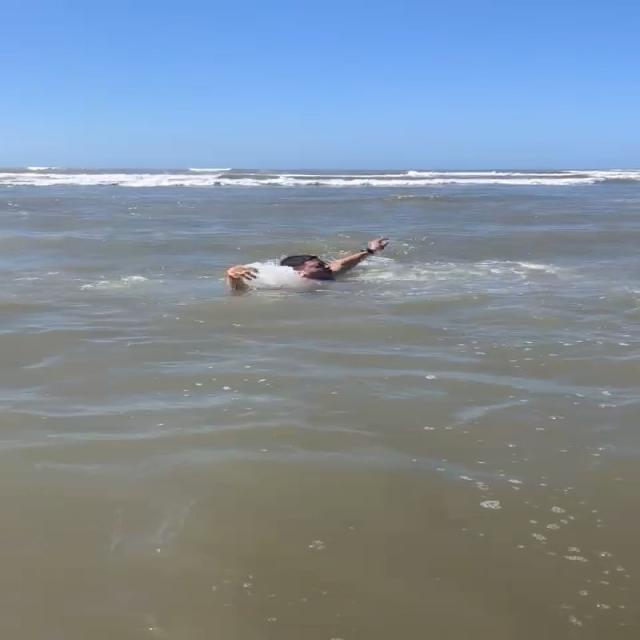Out of Water: (216, 230, 394, 299)
